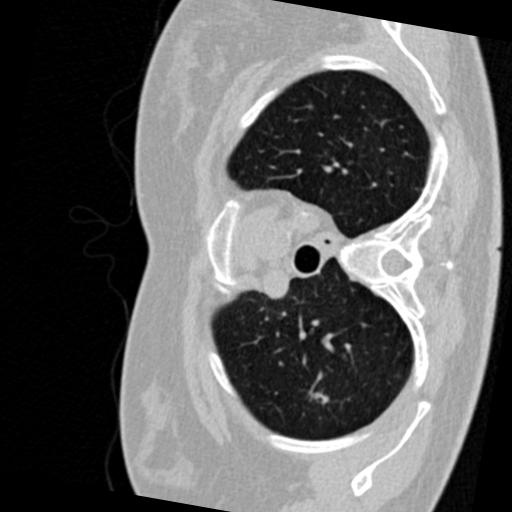nodule: (309, 390, 329, 410)
